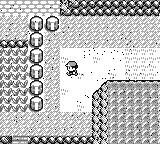captura: (2, 48, 28, 111)
main: (65, 62, 78, 76)
no-caminable: (93, 80, 159, 143), (28, 15, 61, 112), (61, 1, 159, 16)
salto: (29, 137, 92, 143), (0, 40, 28, 47), (1, 137, 12, 143)
